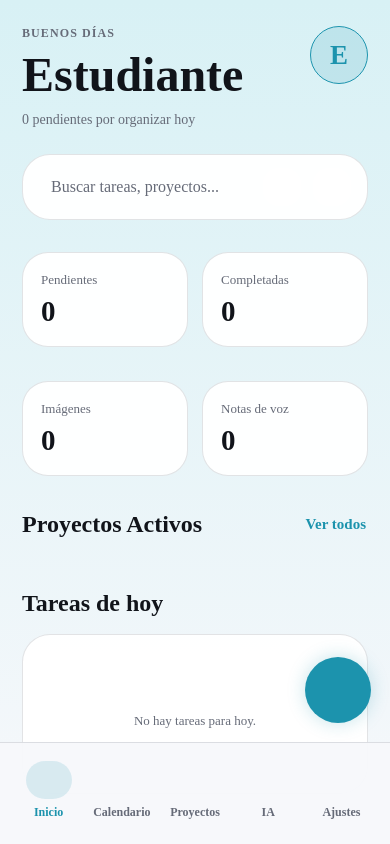
it: Navigation › navigates to Projects tab
Click the tab with aria-label "Pestaña Proyectos" at (195, 812), box left=170, top=805, right=220, bottom=819
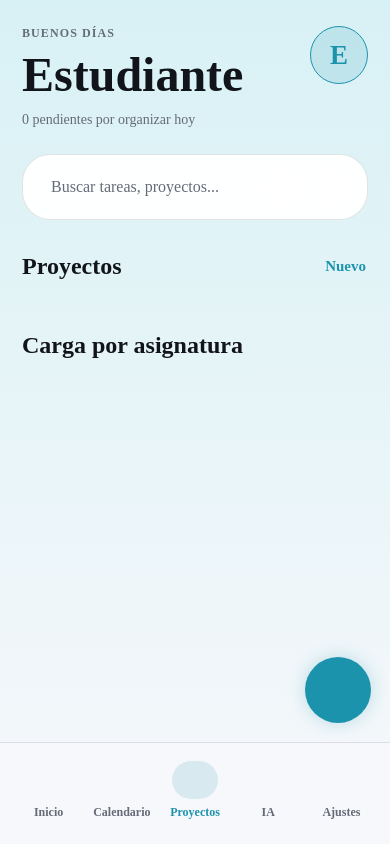
Now the text "Carga por asignatura" is shown, box left=22, top=331, right=243, bottom=359
Now the text "Tareas de hoy" is gone
